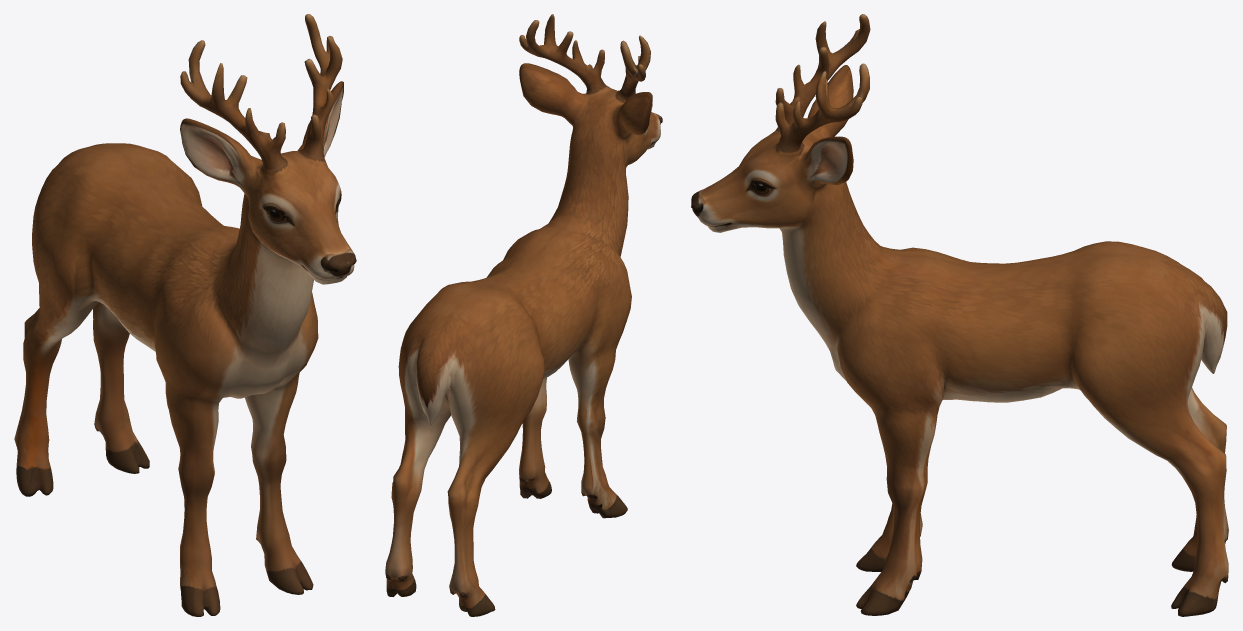
Rendered from deer.glb.
3 views of the same model, side by side, from view 1: azimuth 30°, elevation 25°; view 2: azimuth 150°, elevation 25°; view 3: azimuth 270°, elevation 25° (orthographic). The views are drawn at different scales.
Visible parts, largest first — view 1: tripo_node_00d93476; view 2: tripo_node_00d93476; view 3: tripo_node_00d93476.
Boxes of the visible parts, x1,y1,x2,y2 form: tripo_node_00d93476: (14,14,356,616); tripo_node_00d93476: (385,14,662,616); tripo_node_00d93476: (691,14,1228,616).
Bounding box in the file's own units: 29.03 × 97.89 × 86.83.
1 material, 1 textured.
